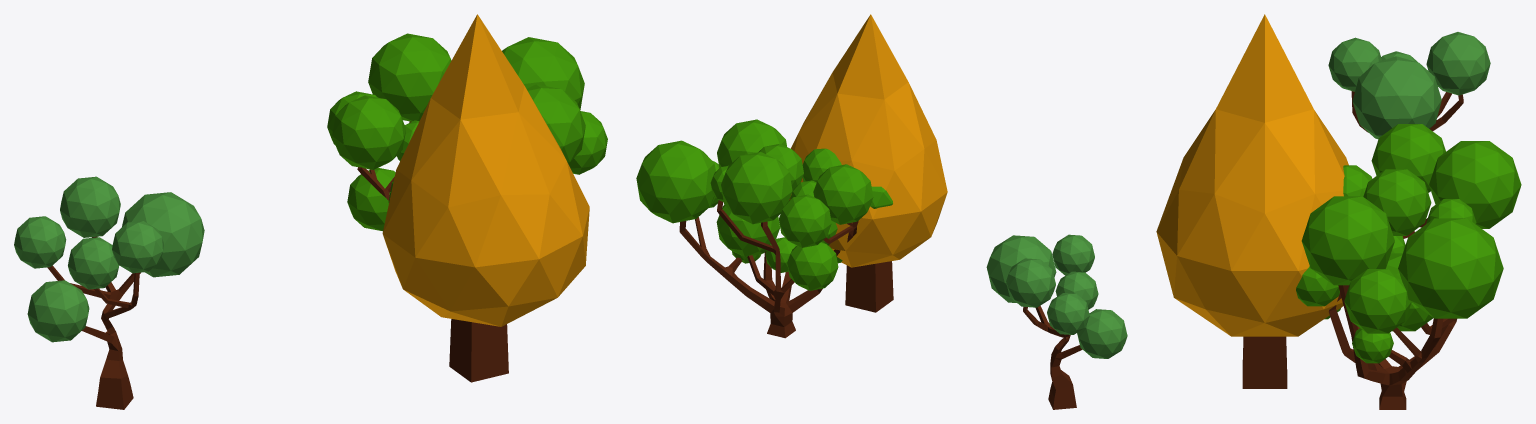
The model's file is asset.glb.
The picture shows the model from 3 angles, left to right: view 1: azimuth 30°, elevation 25°; view 2: azimuth 150°, elevation 25°; view 3: azimuth 270°, elevation 25°; orthographic projection. The views are drawn at different scales.
Visible parts, largest first — view 1: treetop, tree crown (×2), trunk and branches, trunk; view 2: tree crown (×2), treetop, trunk and branches (×2), trunk; view 3: tree crown (×2), treetop, trunk and branches (×2), trunk.
Boxes of the visible parts, bbox=[...] form: treetop: bbox=[382, 14, 589, 326]; tree crown (×2): bbox=[14, 33, 607, 342]; trunk and branches: bbox=[47, 236, 140, 409]; trunk: bbox=[449, 319, 508, 382]; tree crown (×2): bbox=[636, 119, 1127, 358]; treetop: bbox=[789, 14, 947, 267]; trunk and branches (×2): bbox=[679, 200, 1082, 409]; trunk: bbox=[845, 261, 893, 312]; tree crown (×2): bbox=[1296, 32, 1521, 363]; treetop: bbox=[1156, 14, 1348, 336]; trunk and branches (×2): bbox=[1328, 91, 1463, 409]; trunk: bbox=[1242, 336, 1287, 388].
Size of the model in its own units: 6.17 by 3.75 by 3.35.
